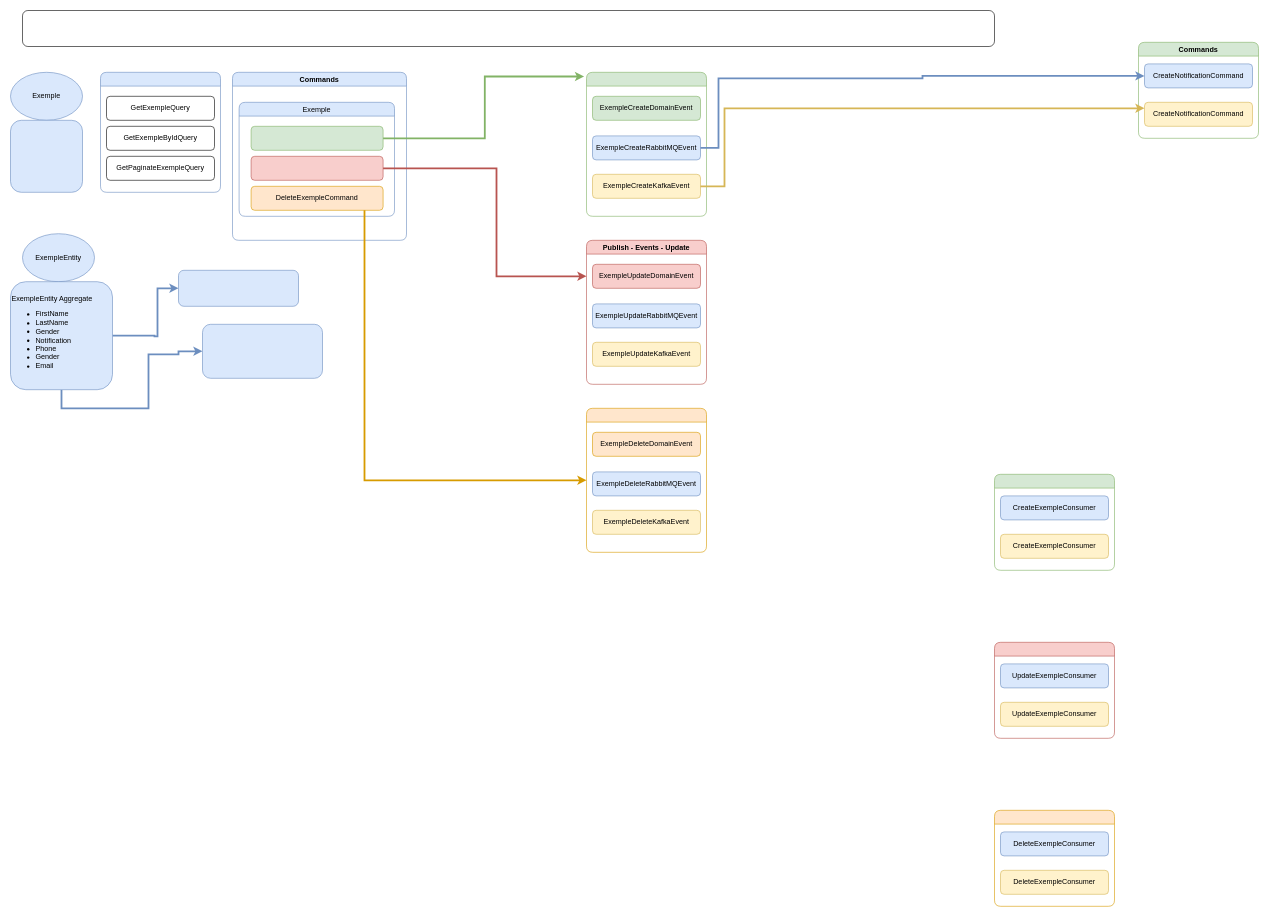
The diagram is 1269 pixels wide and 917 high, and some of its shapes have lost their labels. The shapes that lost their labels are listed below. From the top down, each one's box as (x1, y1, x2, y2) in pixels, then its label:
(22, 10, 994, 46): Definir Papeis e responsabilidades para os contextos delimitados
(100, 72, 220, 192): Queries
(250, 126, 383, 150): CreateExempleCommand
(586, 72, 706, 216): Publish - Events - Create
(10, 120, 82, 192): Dados pessoais
(250, 156, 383, 180): UpdateExempleCommand
(178, 270, 298, 306): Email ValueObject Address
(202, 324, 322, 378): PhoneNumber ValueObject Phone
(586, 408, 706, 552): Publish - Events - Delete
(994, 474, 1114, 570): Subscribe - Create
(994, 642, 1114, 738): Subscribe - Update
(994, 810, 1114, 906): Subscribe - Delete
